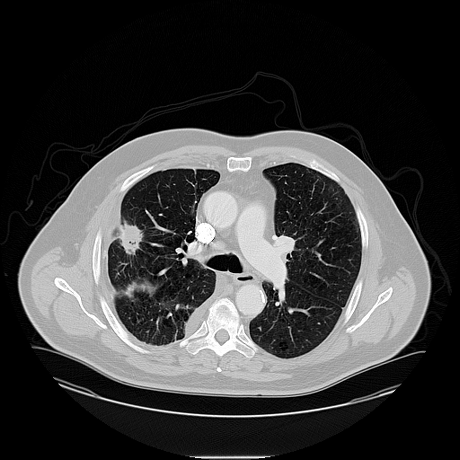nodule: (118, 227, 142, 251)
